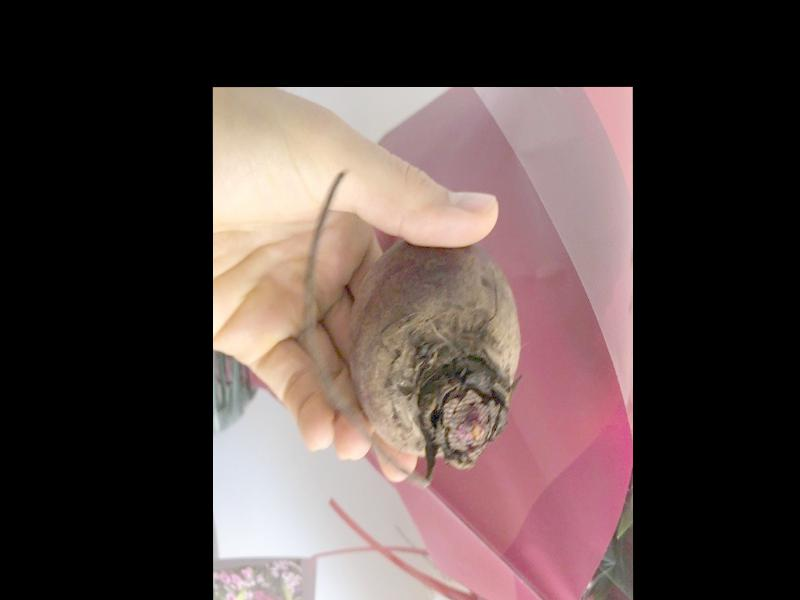Beet: (305, 169, 520, 489)
